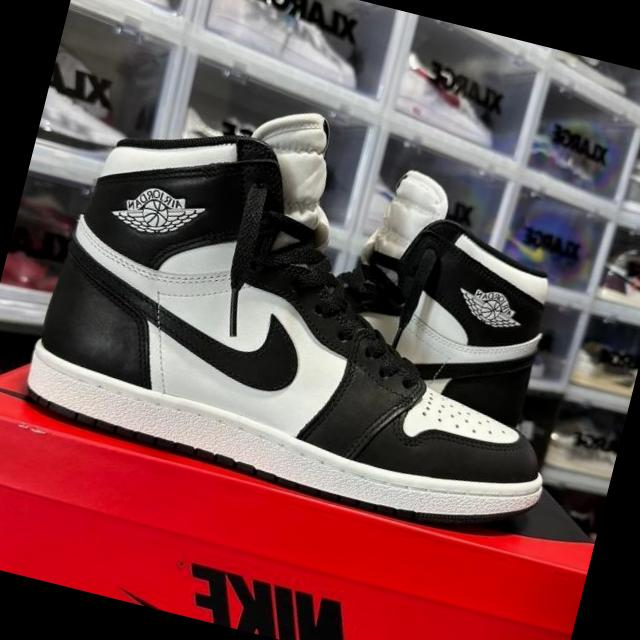nike_original_jordan: (9, 98, 610, 554), (324, 200, 570, 414)
